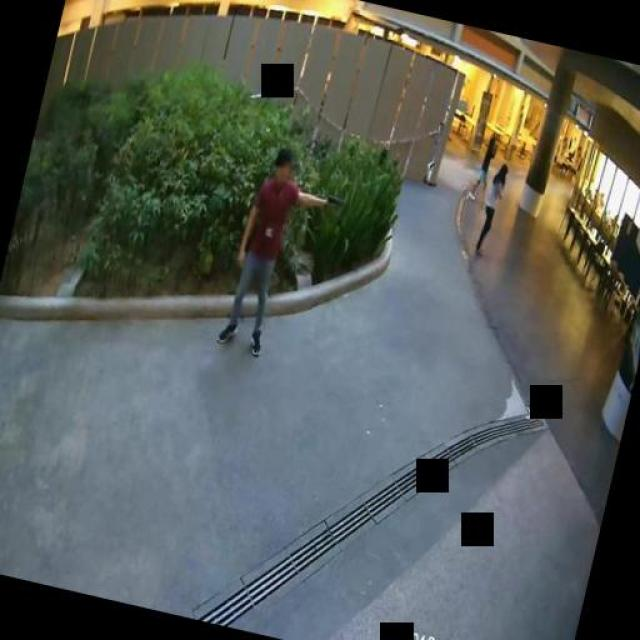gun: (322, 190, 346, 212)
